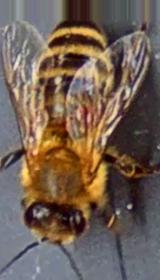varroa_mite: (66, 97, 100, 134)
